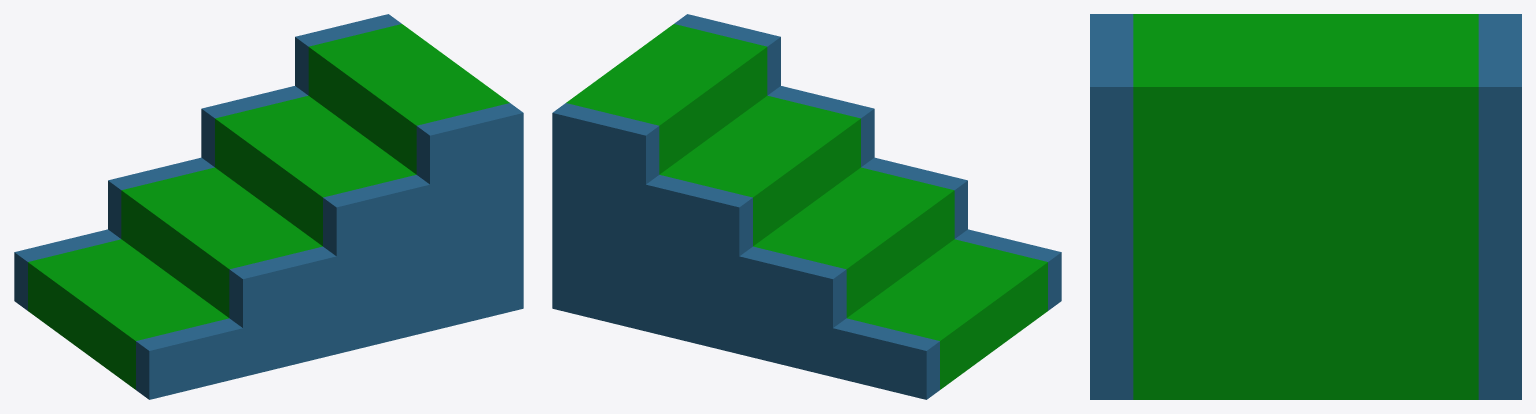
Rendered from stair.glb.
The picture shows the model from 3 angles, left to right: view 1: azimuth 30°, elevation 25°; view 2: azimuth 150°, elevation 25°; view 3: azimuth 270°, elevation 25°; orthographic projection. The views are drawn at different scales.
Bounding box in the file's own units: 8 × 4 × 5.
